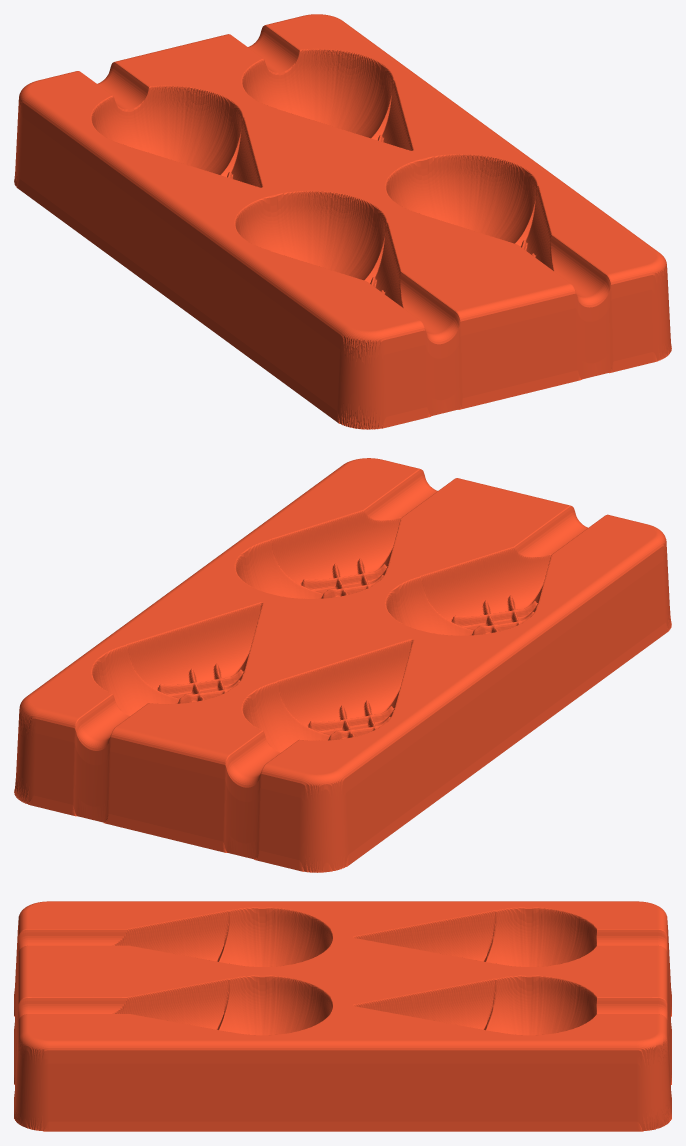
The model's file is mold.glb.
3 views of the same model, one above another, from view 1: azimuth 30°, elevation 25°; view 2: azimuth 150°, elevation 25°; view 3: azimuth 270°, elevation 25° (orthographic). The views are drawn at different scales.
Visible parts, largest first — view 1: geometry_0; view 2: geometry_0; view 3: geometry_0.
Boxes of the visible parts, <box> form: geometry_0: <box>14,14,671,429</box>; geometry_0: <box>14,458,671,872</box>; geometry_0: <box>14,901,671,1131</box>.
Size of the model in its own units: 0.092 by 0.0245 by 0.171.
